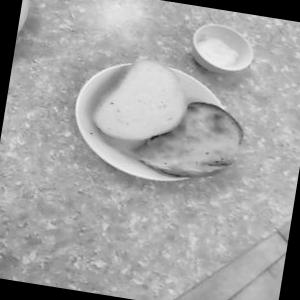bread: (82, 35, 194, 170)
cheese_sandwich: (126, 84, 262, 198)
